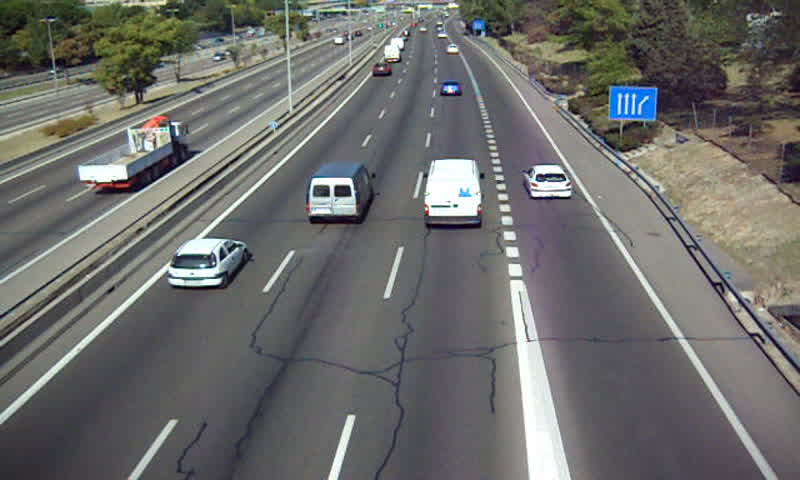car: (166, 238, 249, 292), (524, 165, 574, 199), (439, 80, 462, 96), (371, 63, 391, 77)
van: (424, 159, 483, 226), (308, 162, 374, 221), (383, 45, 401, 63)
